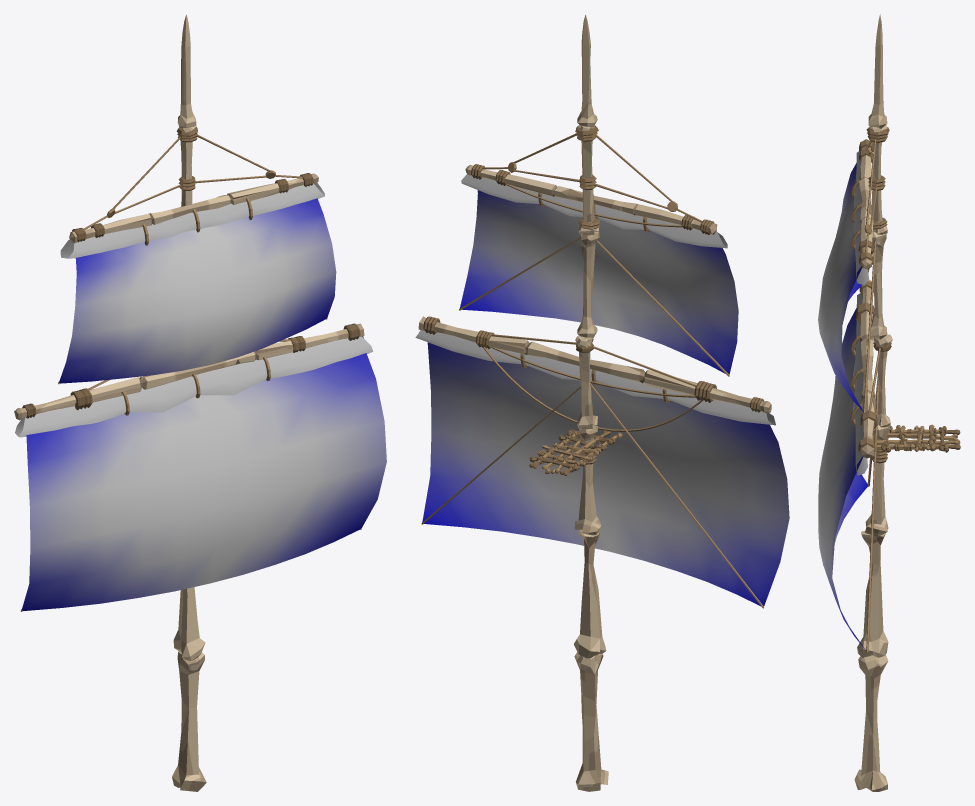
File: SM_Veh_Ship_L_Mast_Front_02.fbx
The picture shows the model from 3 angles, left to right: view 1: azimuth 30°, elevation 25°; view 2: azimuth 150°, elevation 25°; view 3: azimuth 270°, elevation 25°; orthographic projection.
Parts seen in each view (by area): view 1: SM_Veh_Ship_L_Mast_Front_01_Boom_02_Sails_Down_01, SM_Veh_Ship_L_Mast_Front_02, SM_Veh_Ship_L_Mast_Front_02_Boom_01; view 2: SM_Veh_Ship_L_Mast_Front_01_Boom_02_Sails_Down_01, SM_Veh_Ship_L_Mast_Front_02, SM_Veh_Ship_L_Mast_Front_02_Boom_01; view 3: SM_Veh_Ship_L_Mast_Front_02, SM_Veh_Ship_L_Mast_Front_01_Boom_02_Sails_Down_01, SM_Veh_Ship_L_Mast_Front_02_Boom_01.
Boxes of the visible parts, x1=… form: SM_Veh_Ship_L_Mast_Front_01_Boom_02_Sails_Down_01: x1=20, y1=198, x2=386, y2=611; SM_Veh_Ship_L_Mast_Front_02: x1=14, y1=14, x2=364, y2=791; SM_Veh_Ship_L_Mast_Front_02_Boom_01: x1=15, y1=183, x2=373, y2=437; SM_Veh_Ship_L_Mast_Front_01_Boom_02_Sails_Down_01: x1=421, y1=190, x2=789, y2=608; SM_Veh_Ship_L_Mast_Front_02: x1=418, y1=14, x2=771, y2=791; SM_Veh_Ship_L_Mast_Front_02_Boom_01: x1=415, y1=174, x2=775, y2=425; SM_Veh_Ship_L_Mast_Front_02: x1=854, y1=14, x2=960, y2=791; SM_Veh_Ship_L_Mast_Front_01_Boom_02_Sails_Down_01: x1=818, y1=163, x2=878, y2=653; SM_Veh_Ship_L_Mast_Front_02_Boom_01: x1=851, y1=151, x2=868, y2=475.
Bounding box in the file's own units: 1736 × 3588 × 599.
